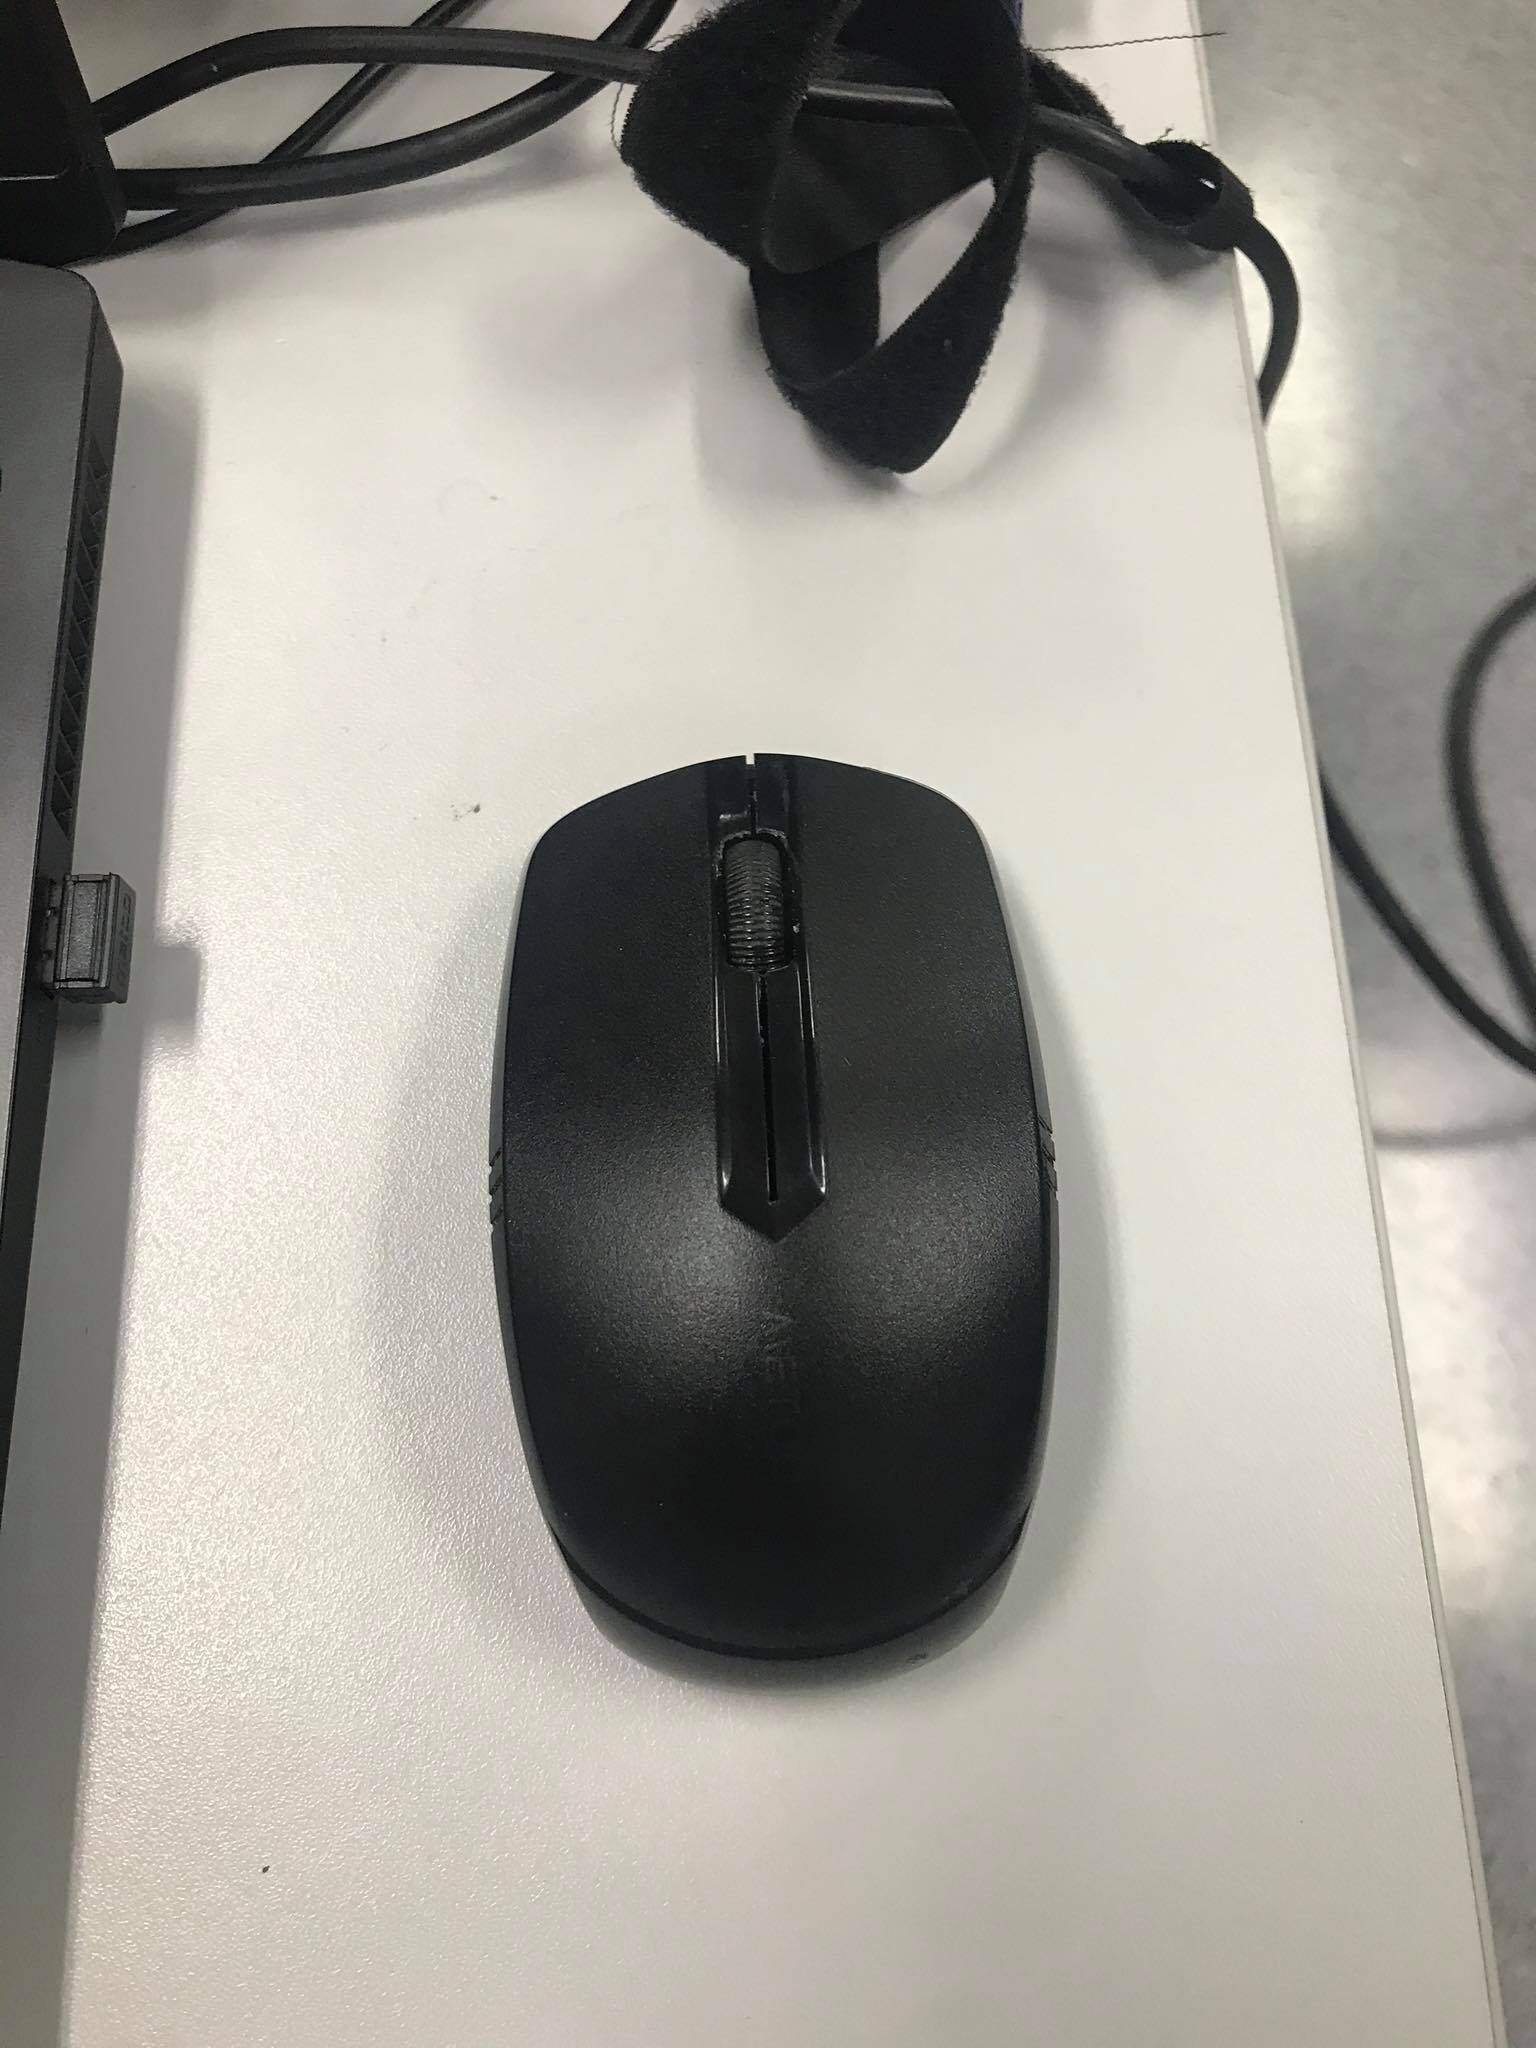mouse: (478, 755, 1087, 1684)
